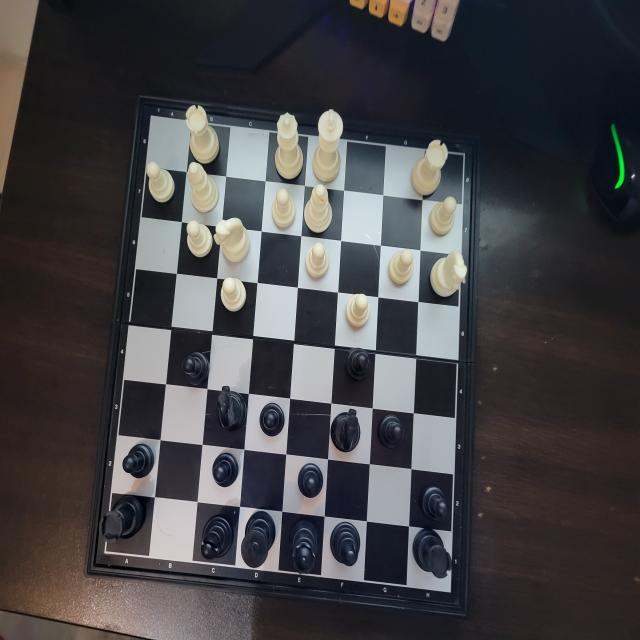black-bishop: (329, 518, 363, 573), (198, 511, 232, 564)
black-king: (239, 507, 277, 576)
black-knight: (215, 382, 248, 436), (329, 404, 362, 458)
black-pawn: (418, 480, 451, 528), (122, 443, 156, 483), (376, 412, 405, 453), (180, 350, 211, 388), (344, 346, 372, 385), (210, 451, 238, 489), (296, 462, 325, 498), (258, 402, 286, 439)
black-queen: (287, 518, 324, 580)
black-rook: (98, 491, 146, 550), (410, 527, 452, 582)
chess-board: (97, 95, 468, 615)
white-bishop: (186, 161, 221, 214), (304, 183, 333, 234)
white-king: (312, 108, 344, 184)
white-knight: (428, 249, 468, 302), (213, 216, 254, 264)
white-pawn: (146, 161, 176, 205), (428, 196, 458, 237), (386, 246, 414, 286), (270, 187, 296, 230), (186, 219, 213, 259), (304, 240, 330, 281), (344, 290, 371, 328), (220, 276, 247, 312)
white-queen: (274, 110, 304, 182)
white-rook: (410, 138, 449, 196), (184, 103, 220, 164)
